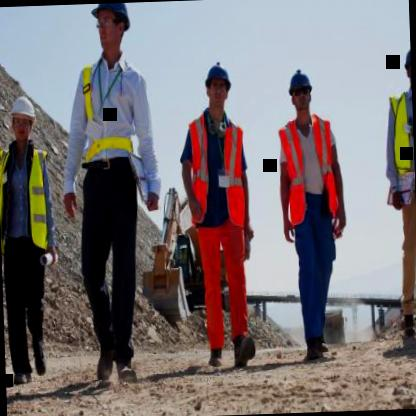helmet: (89, 2, 138, 63), (202, 55, 235, 119), (6, 92, 38, 146), (286, 64, 317, 119)
